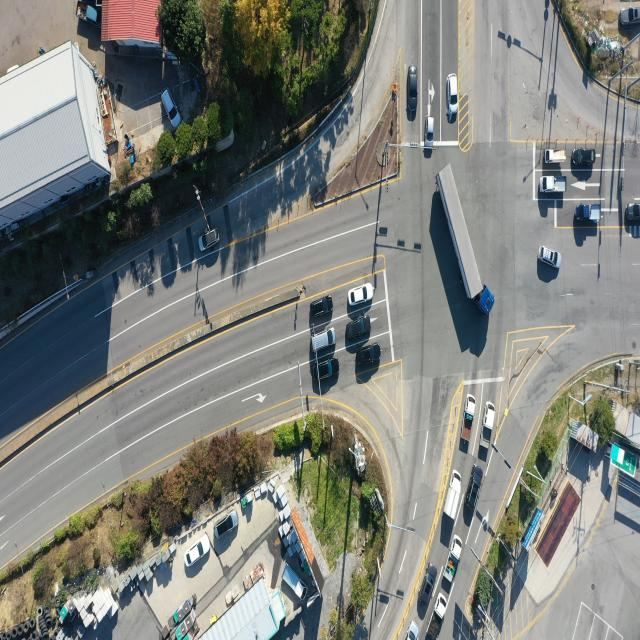car: (184, 537, 209, 568), (469, 466, 486, 511), (161, 90, 179, 132), (308, 329, 336, 355), (421, 566, 438, 606), (215, 510, 238, 539), (312, 358, 339, 382), (345, 319, 371, 343), (348, 283, 373, 307), (356, 343, 382, 366), (309, 297, 333, 320), (409, 65, 419, 115), (540, 246, 561, 269), (446, 74, 457, 114), (573, 149, 595, 168), (620, 6, 640, 25), (426, 116, 434, 150), (625, 203, 640, 221), (405, 622, 420, 640)
large_truck: (437, 160, 495, 319)
small_truck: (441, 469, 463, 523), (281, 565, 307, 601), (444, 536, 463, 583), (430, 595, 448, 640), (460, 394, 476, 444), (482, 402, 497, 451), (199, 226, 221, 251), (540, 175, 567, 194), (576, 204, 601, 223), (76, 5, 100, 24), (546, 149, 567, 163)
